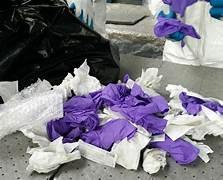Glove: (154, 11, 199, 45), (67, 0, 93, 28), (163, 0, 197, 16), (209, 0, 222, 19)
